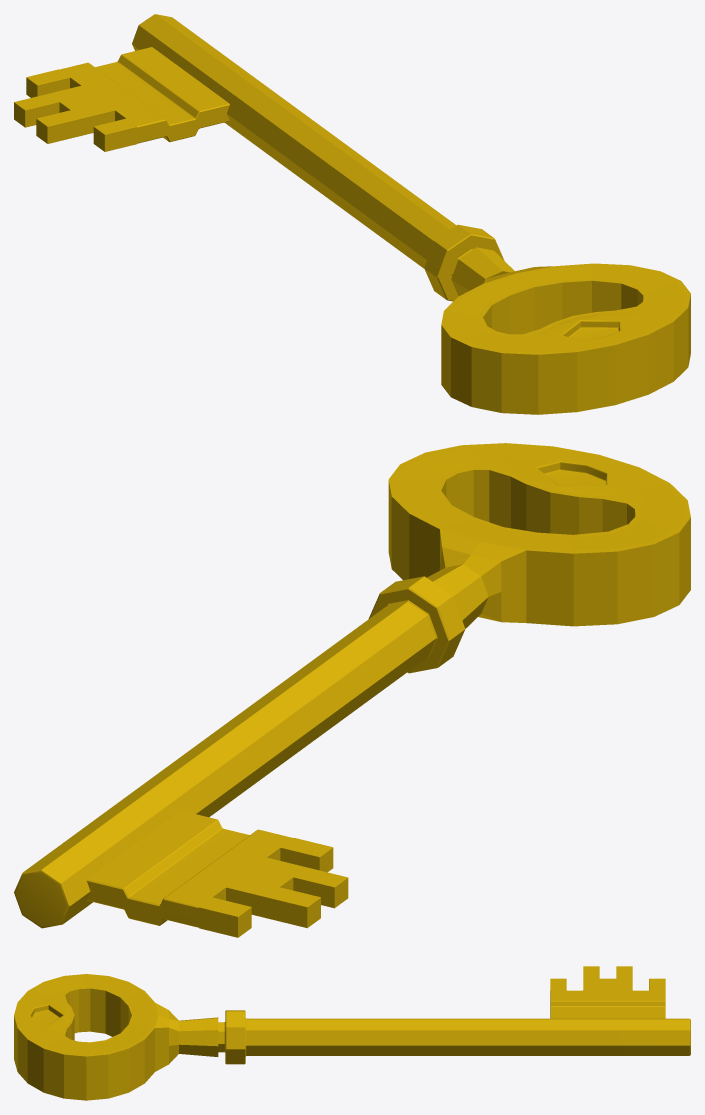
File: Key.fbx
3 renders of one model, top to bottom at view 1: azimuth 30°, elevation 25°; view 2: azimuth 150°, elevation 25°; view 3: azimuth 270°, elevation 25°, orthographic. The views are drawn at different scales.
Parts seen in each view (by area): view 1: pCube2; view 2: pCube2; view 3: pCube2.
Part boxes in pixels (left/top/right/bottom): pCube2: left=14, top=14, right=690, bottom=414; pCube2: left=14, top=443, right=690, bottom=937; pCube2: left=14, top=966, right=690, bottom=1100.
Size of the model in its own units: 8.09 by 1.85 by 21.85.
